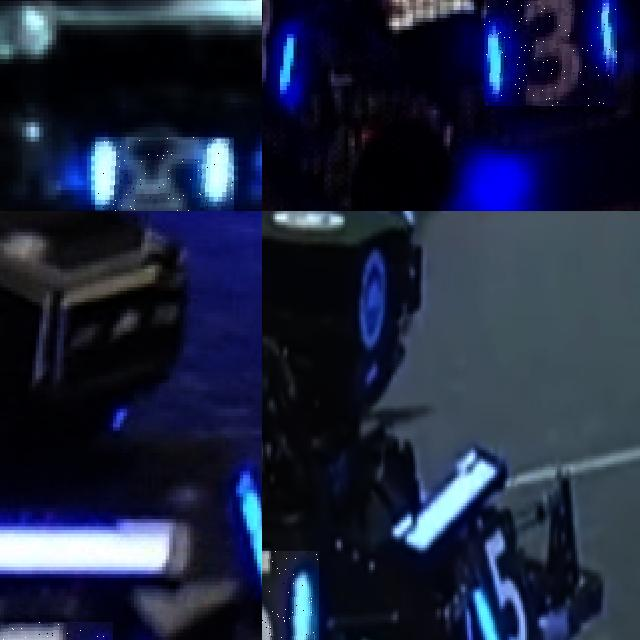B3: (484, 0, 617, 106), (262, 0, 297, 98)
B5: (262, 550, 319, 640)
Bs: (95, 136, 233, 211)
